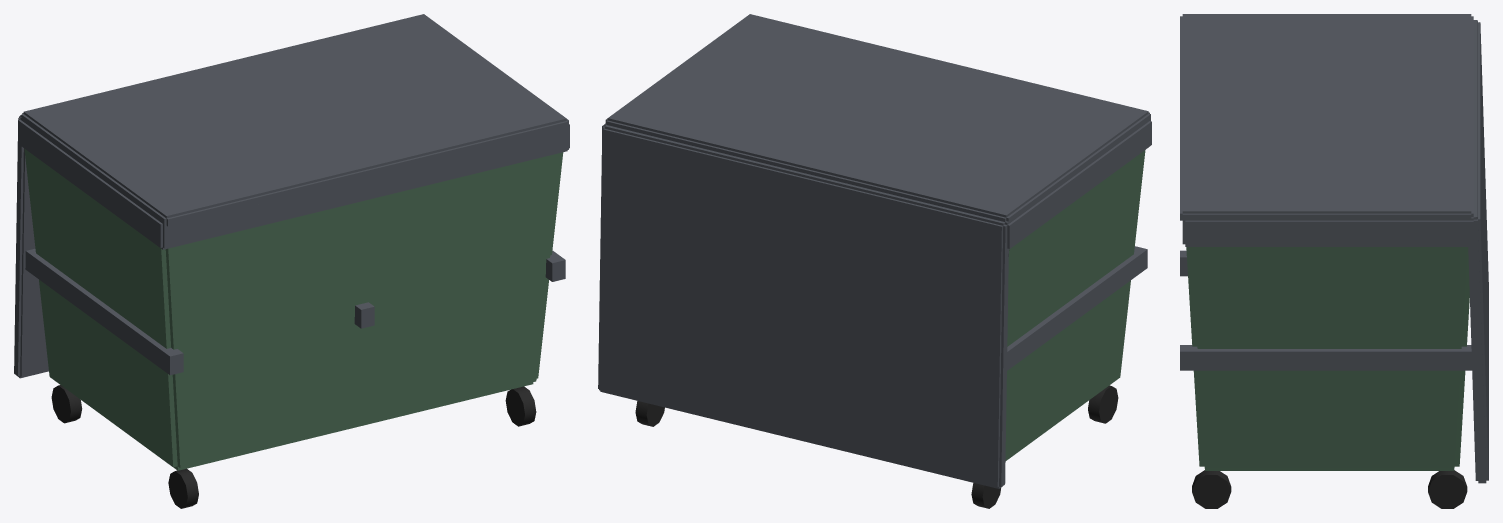
Rendered from dumpster.glb.
The picture shows the model from 3 angles, left to right: view 1: azimuth 30°, elevation 25°; view 2: azimuth 150°, elevation 25°; view 3: azimuth 270°, elevation 25°; orthographic projection.
Parts seen in each view (by area): view 1: ok_mesh, lid_mesh; view 2: lid_mesh, ok_mesh; view 3: ok_mesh, lid_mesh.
Boxes of the visible parts, <box> form: ok_mesh: <box>18,14,569,508</box>; lid_mesh: <box>14,115,48,378</box>; lid_mesh: <box>598,125,1008,488</box>; ok_mesh: <box>602,14,1151,508</box>; ok_mesh: <box>1180,14,1476,508</box>; lid_mesh: <box>1468,20,1488,483</box>.
Size of what is drawn, in the model's own units: 1.82 by 1.31 by 1.18.
